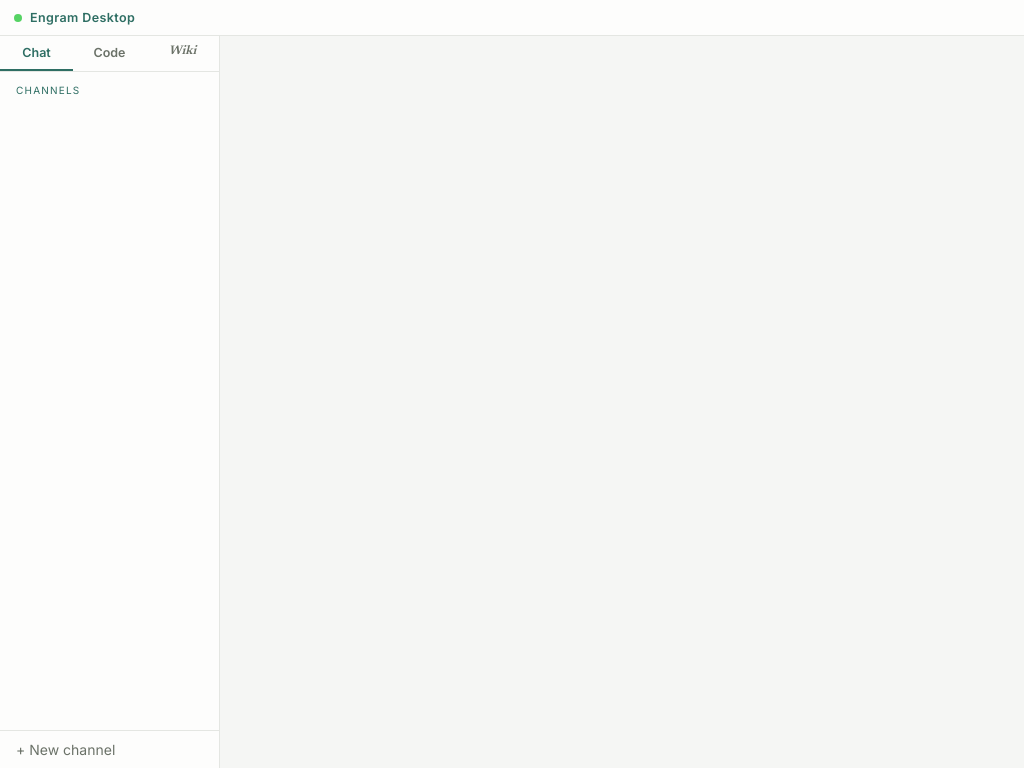
B3. 노력 배지(코드 채널 전용) › 채널에 실린 effort 값을 라벨로 보여준다
Step 1. Click the text "Code" → [110, 52], box left=94, top=45, right=126, bottom=60
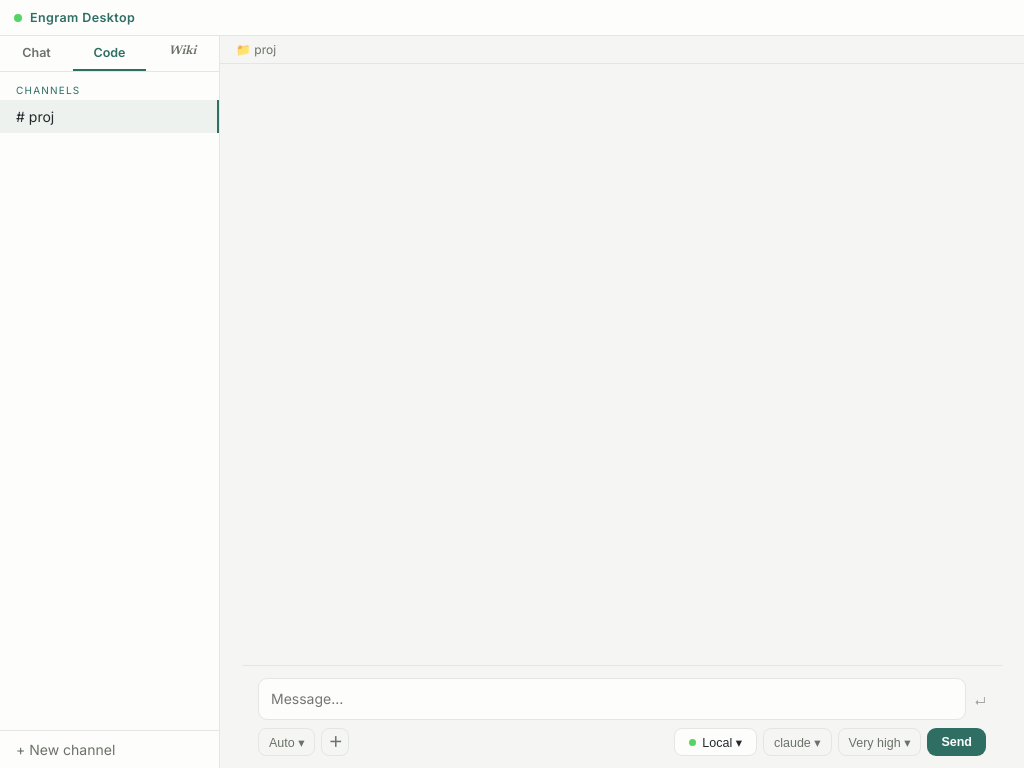
expect the text titled "C:/repo/proj" is shown: met, box left=220, top=36, right=1023, bottom=64
expect the button with class "effortBadge" shows "Very high": met, box left=838, top=728, right=922, bottom=756
